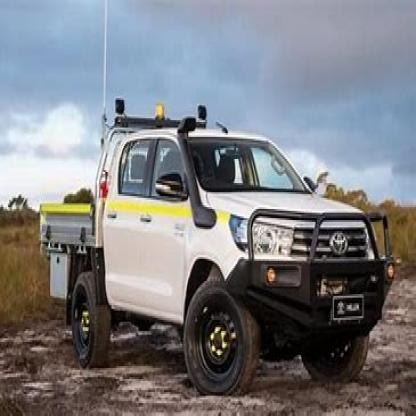light_vehicle: (31, 98, 396, 396)
